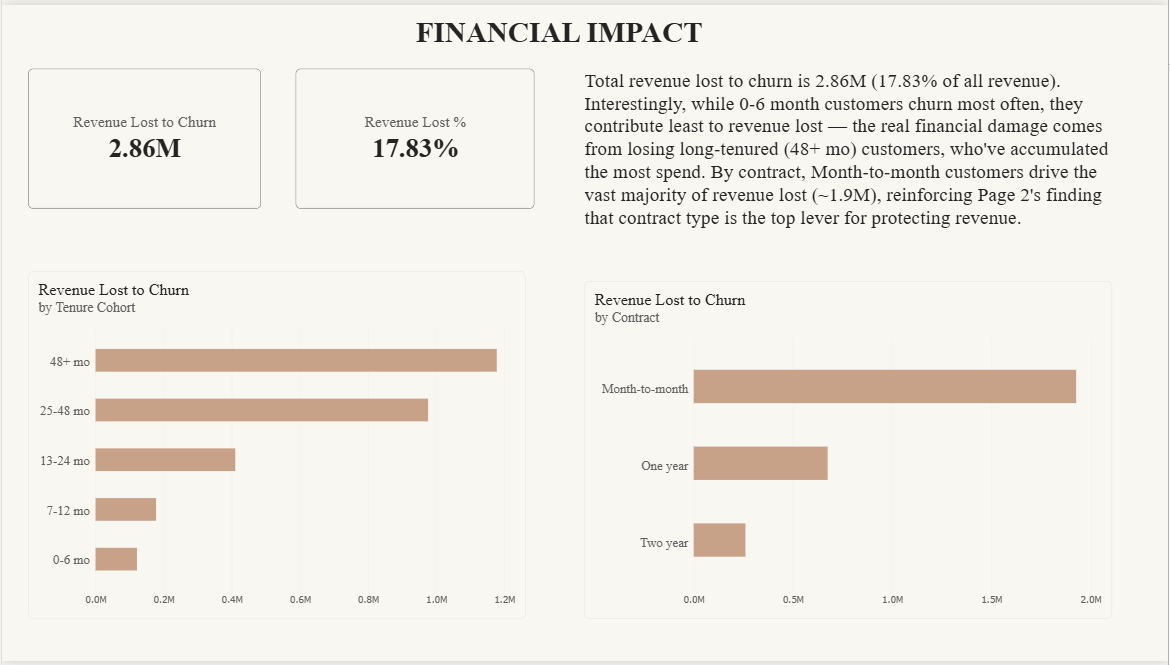

Layout of this report page (visuals, bound fields, positions):
{"tool":"powerbi","page":{"name":"Financial Impact","canvas":[1920,1080],"ordinal":4},"visuals":[{"type":"cardVisual","fields":{"Data":["cleaned_telco_churn.Revenue Lost to Churn"]},"box":[43.2,105,382.8,230.5],"z":0},{"type":"textbox","box":[681.3,18.5,481.6,86.4],"z":1},{"type":"cardVisual","fields":{"Data":["cleaned_telco_churn.Revenue Lost %"]},"box":[483.7,105,393.1,230.5],"z":2},{"type":"clusteredBarChart","fields":{"Category":["cleaned_telco_churn.Tenure Cohort"],"Y":["cleaned_telco_churn.Revenue Lost to Churn"]},"box":[43.2,438.4,819.2,572.2],"z":3},{"type":"clusteredBarChart","fields":{"Category":["cleaned_telco_churn.Contract"],"Y":["cleaned_telco_churn.Revenue Lost to Churn"]},"box":[959.2,454.9,868.6,555.7],"z":4},{"type":"textbox","box":[959.2,105,901.5,277.9],"z":5}]}

Visuals, with their boxes in screenshot pixels (x1, y1, x2, y2), scaled from the page's 1920x1080 canvas onto the 1170x665 screenshot:
cardVisual - cleaned_telco_churn.Revenue Lost to Churn: [left=26, top=65, right=260, bottom=207]
textbox: [left=415, top=11, right=709, bottom=65]
cardVisual - cleaned_telco_churn.Revenue Lost %: [left=295, top=65, right=534, bottom=207]
clusteredBarChart - cleaned_telco_churn.Tenure Cohort x cleaned_telco_churn.Revenue Lost to Churn: [left=26, top=270, right=526, bottom=622]
clusteredBarChart - cleaned_telco_churn.Contract x cleaned_telco_churn.Revenue Lost to Churn: [left=585, top=280, right=1114, bottom=622]
textbox: [left=585, top=65, right=1134, bottom=236]
